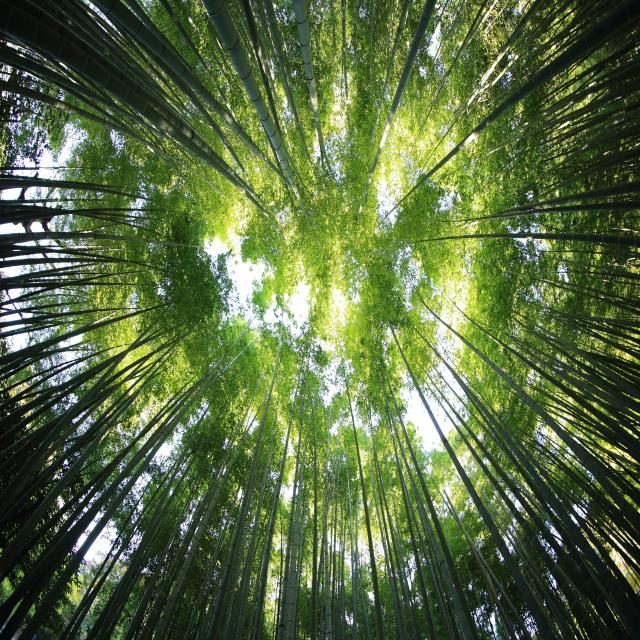Forest: (1, 5, 640, 635)
